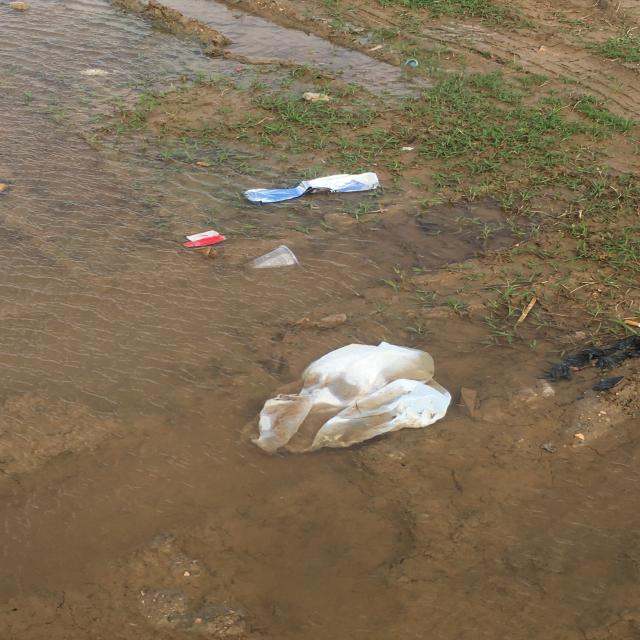Plastic bag: (236, 339, 454, 457), (536, 330, 640, 396)
Plastic cup: (240, 242, 303, 276)
Plastic packaging: (239, 170, 383, 204), (181, 227, 229, 252)
